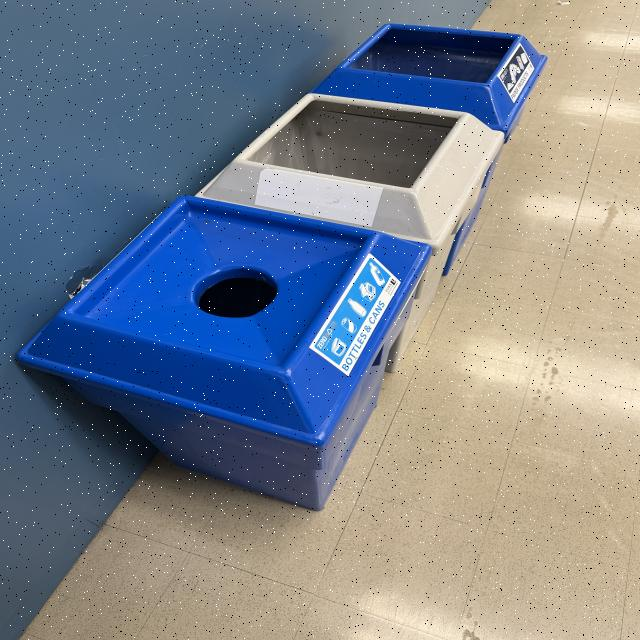Dustbin: (14, 22, 550, 515)
